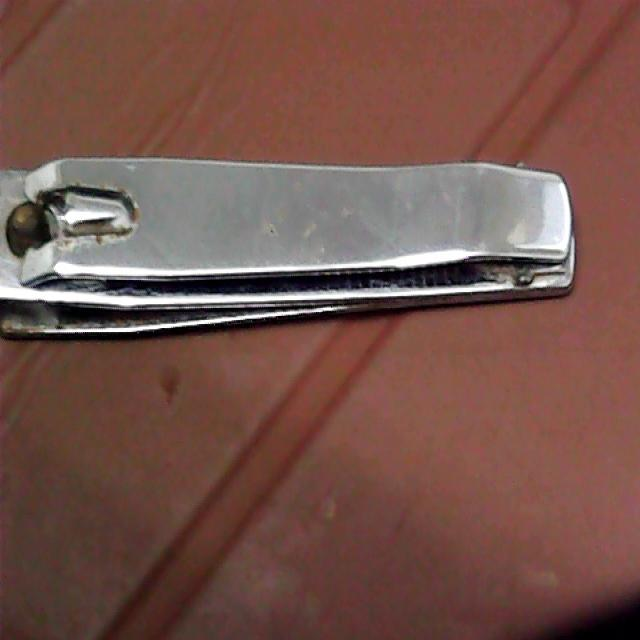Nail_clipper: (0, 157, 576, 336)
